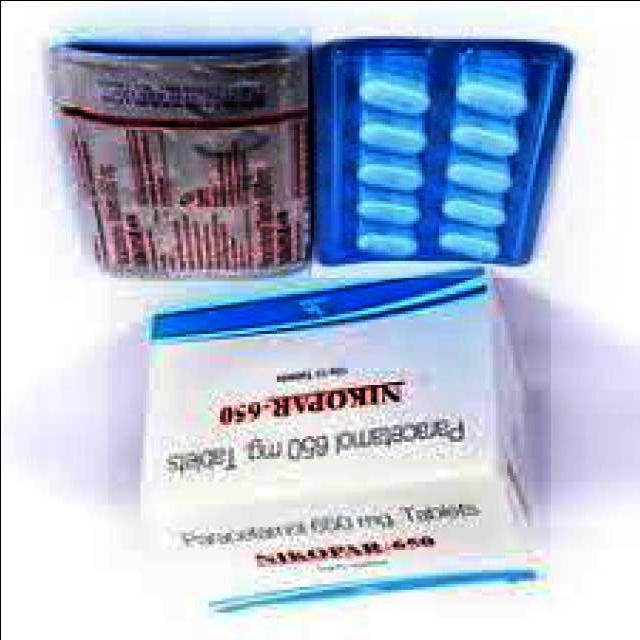authentic: (107, 276, 550, 620), (303, 27, 592, 276), (41, 24, 311, 280)
